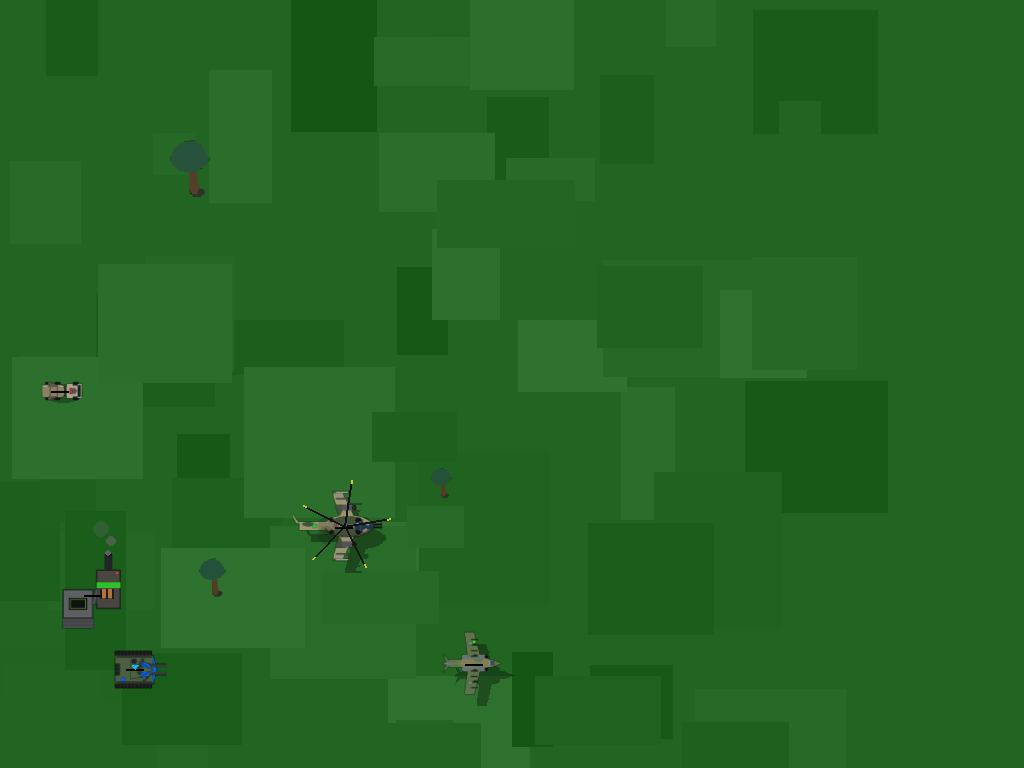AttackPlane_rus: (452, 642, 494, 684)
HIMARS: (38, 369, 80, 411)
Mi24: (316, 498, 371, 553)
MiningRig: (57, 558, 130, 631)
Type99: (112, 645, 158, 691)
